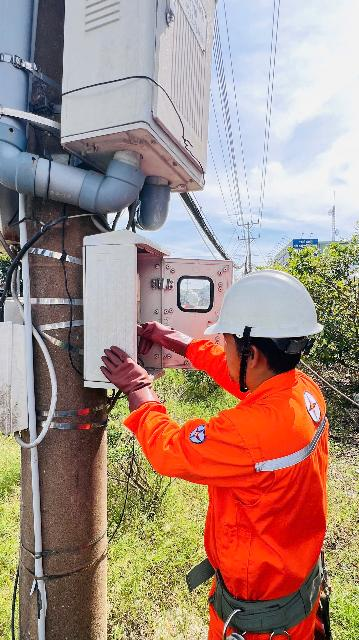gloves: (96, 346, 169, 419), (135, 313, 198, 367)
harness: (166, 546, 348, 635)
helmet: (204, 256, 336, 351)
